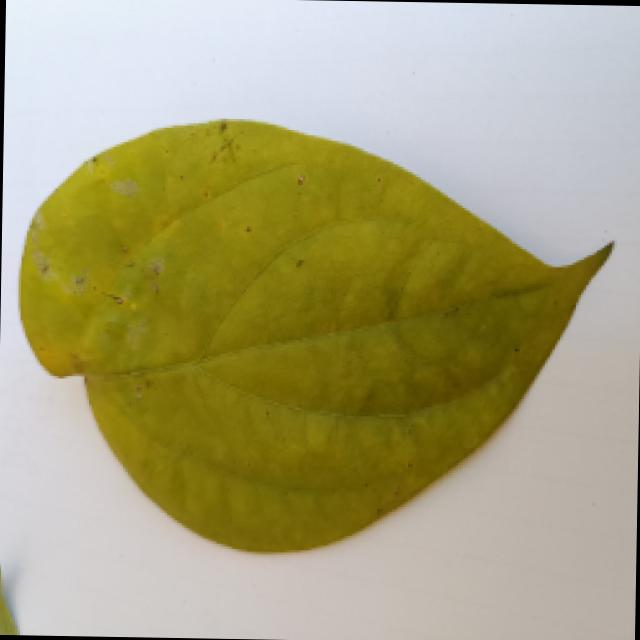slow-decline: (0, 115, 613, 640)
